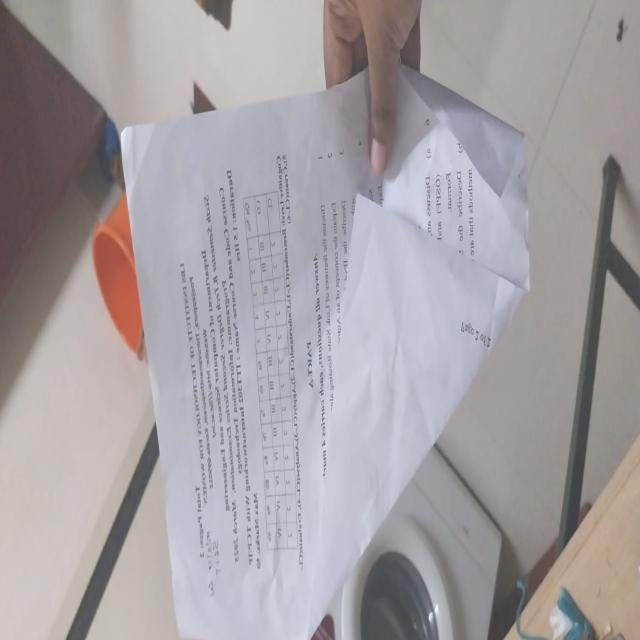Paper - Recyclable: (119, 59, 531, 640)
